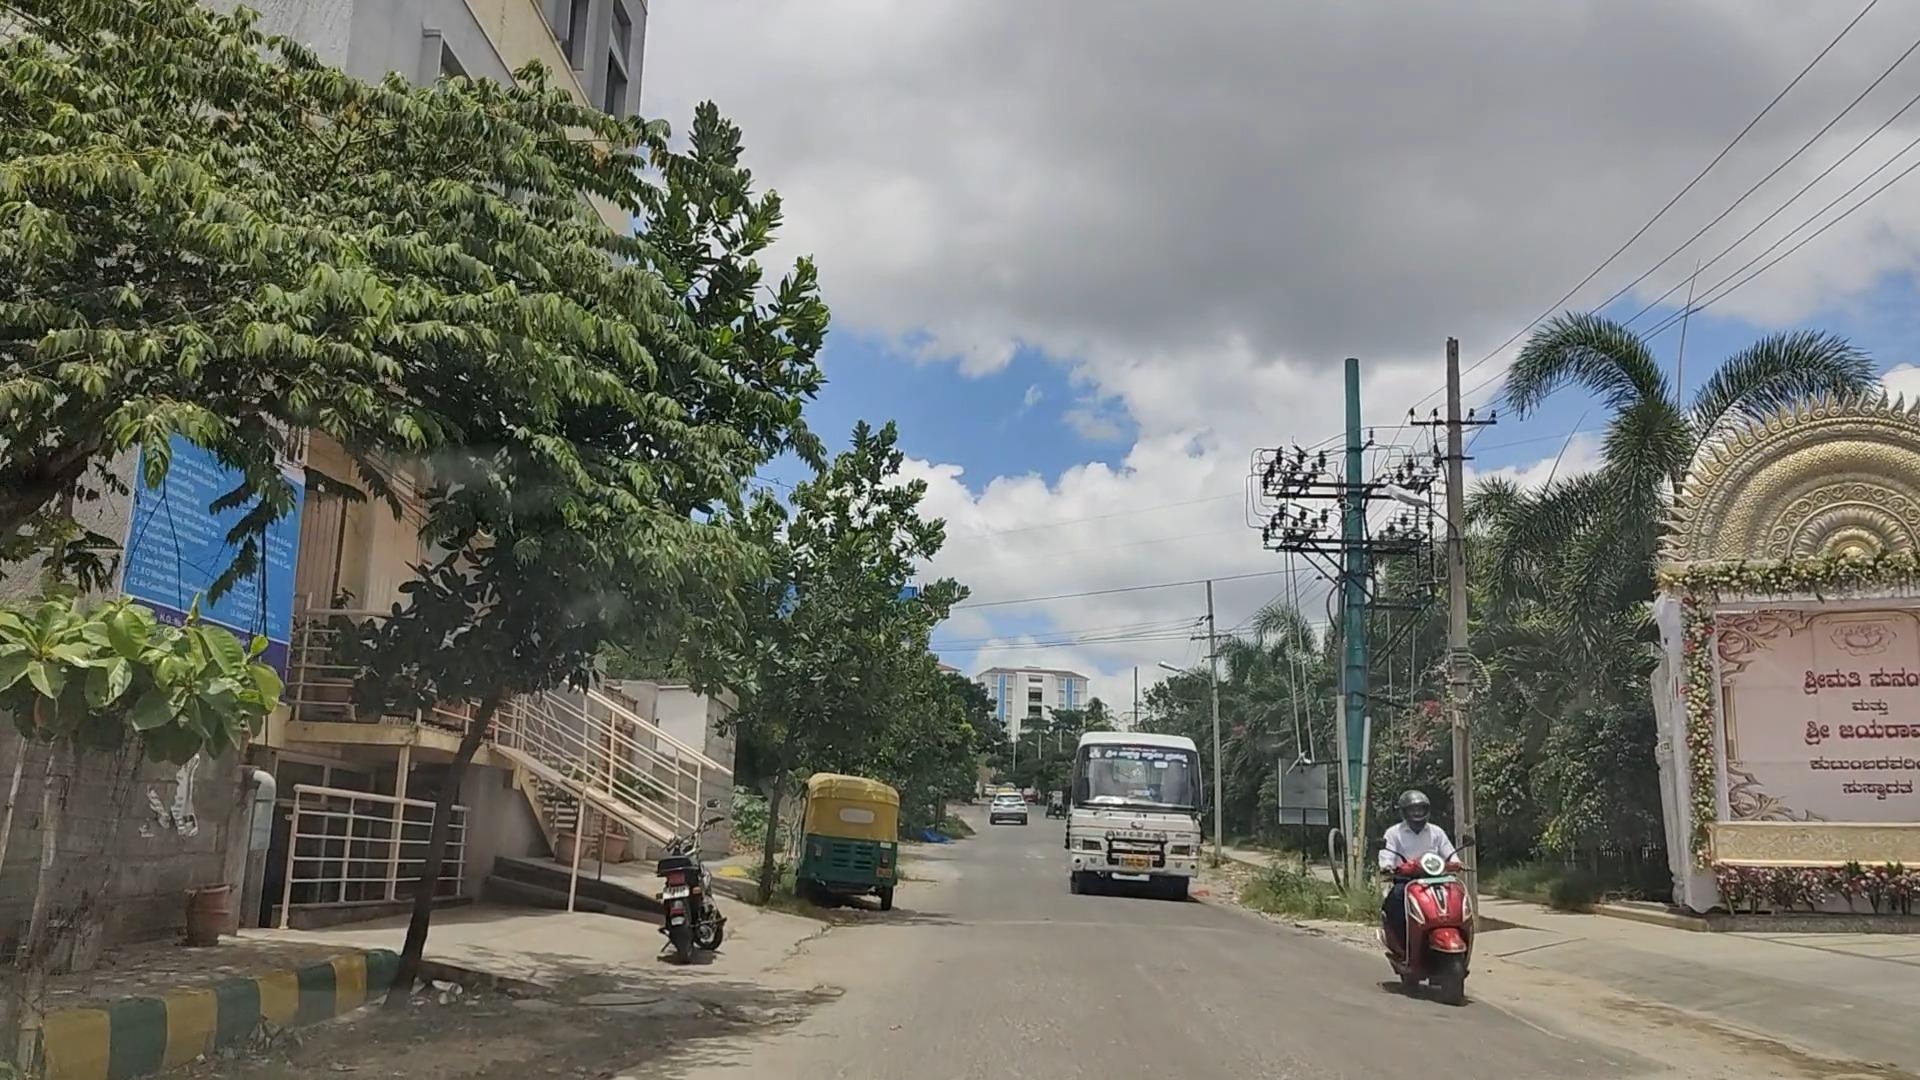HMV: (1060, 704, 1212, 913)
RoadDamages: (521, 953, 774, 1064)
